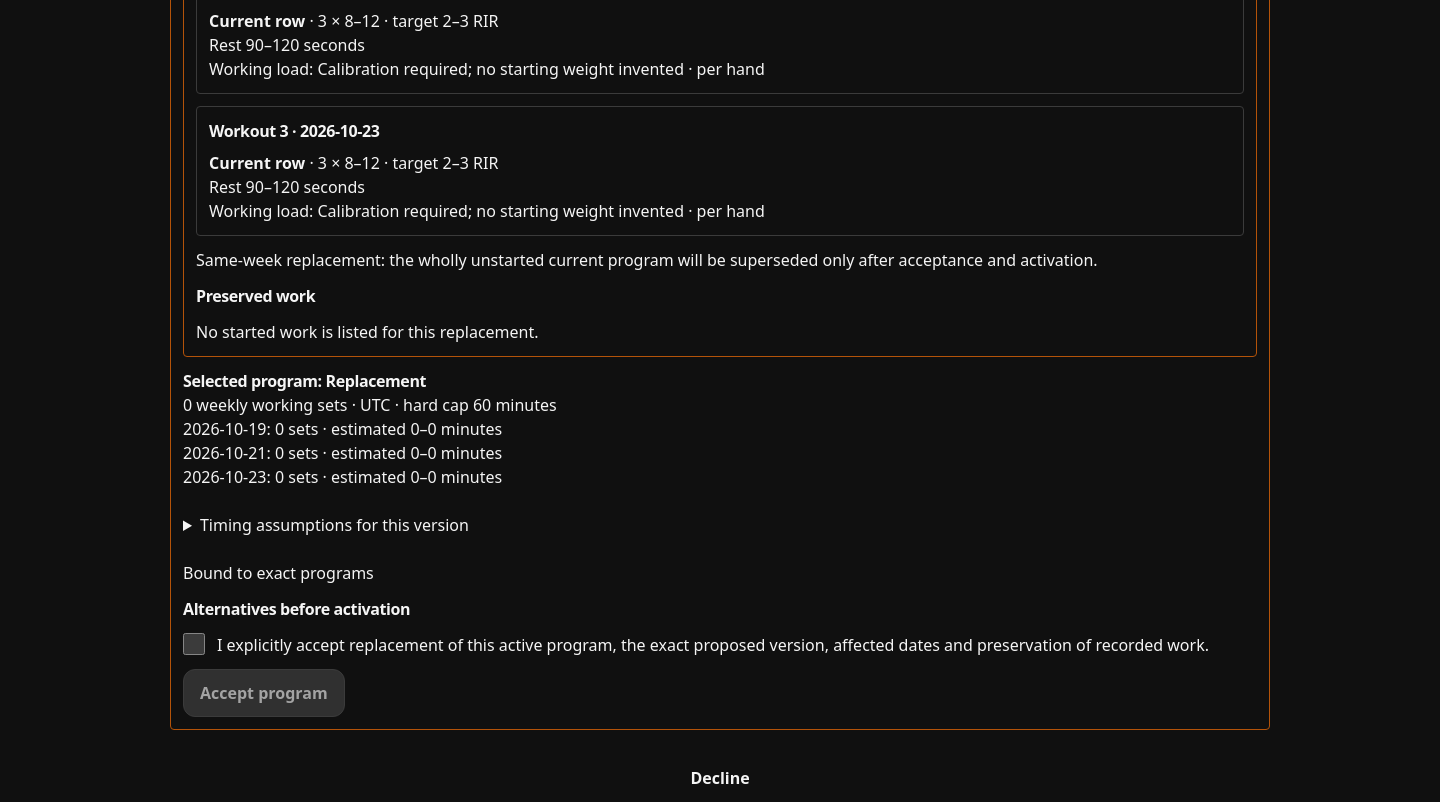
replacement consent names replacement explicitly and stays disabled before acknowledgement
(page scrolled)
Expected: the button "Accept program" is disabled, [183,669,345,717]
Click the checkbox named "I accept replacement of this active program": x=194, y=644 [183,633,205,655]
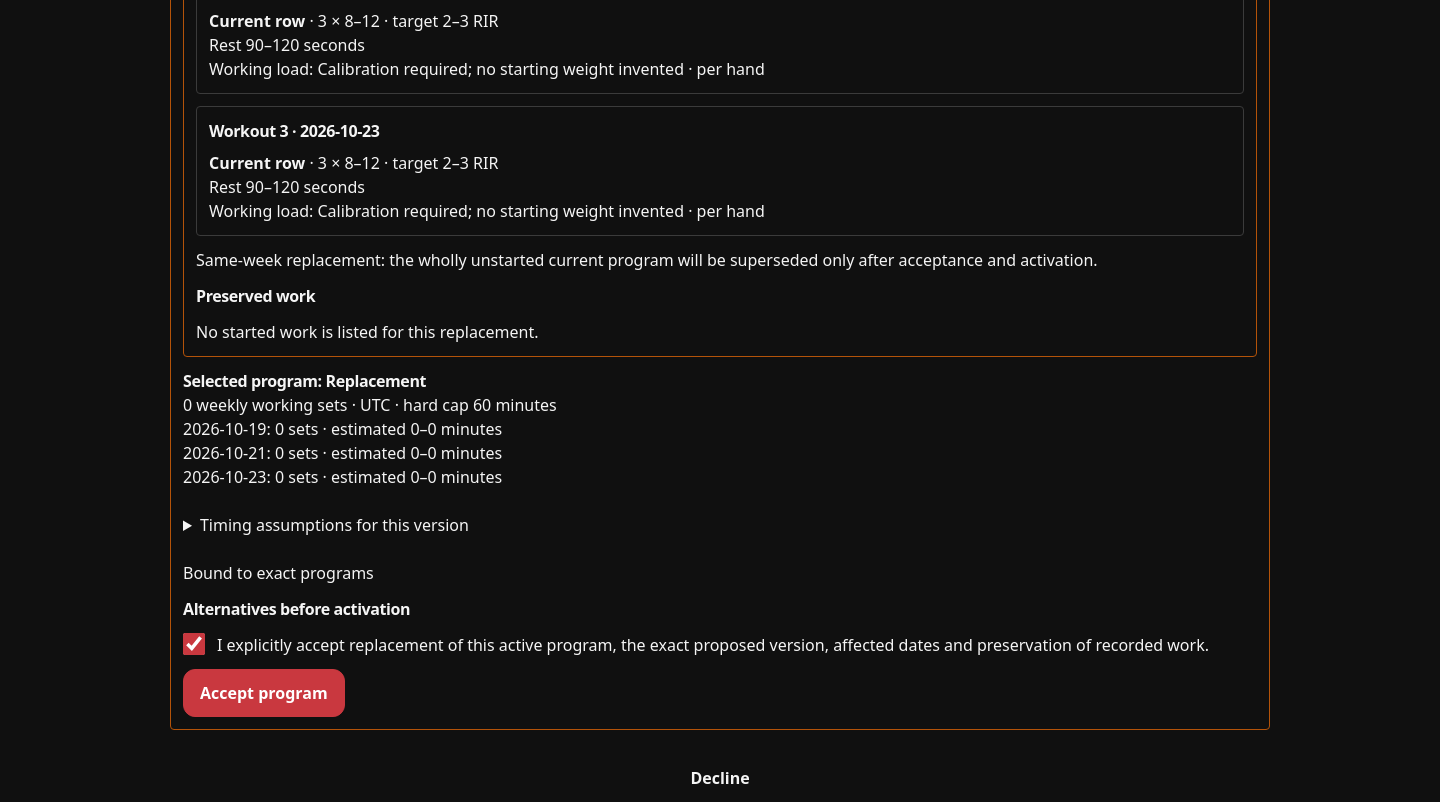
Now the button "Accept program" is enabled, box [183,669,345,717]
